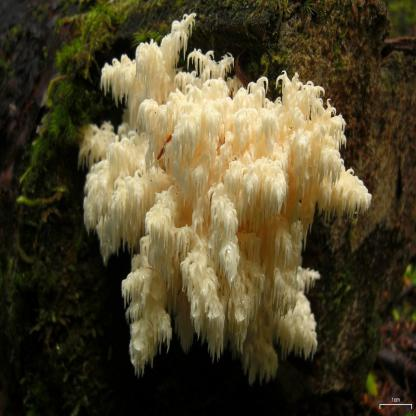Mushroom: (76, 14, 372, 383)
